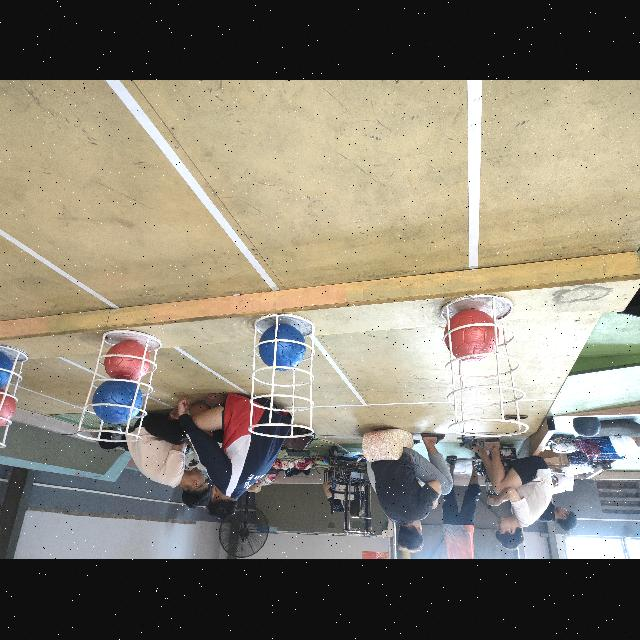B: (92, 380, 144, 424), (258, 327, 306, 371), (0, 350, 14, 390)
R: (446, 309, 500, 363), (106, 342, 150, 384), (0, 388, 16, 432)
